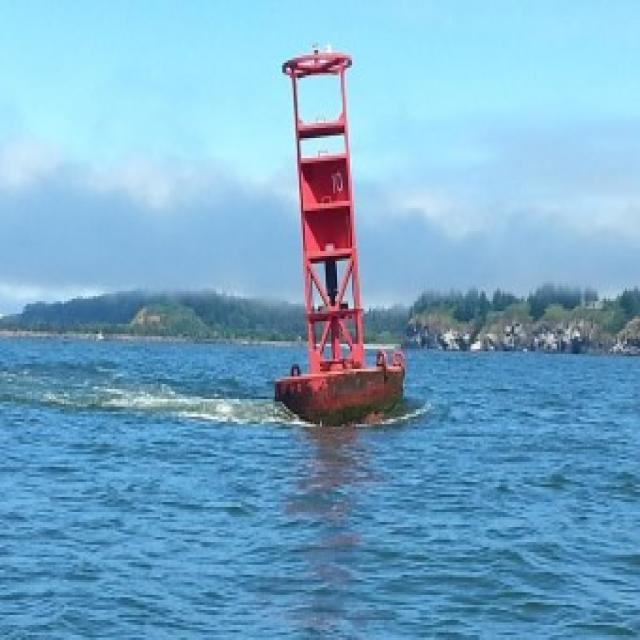2.1 lateral mark -P-: (261, 29, 411, 426)
